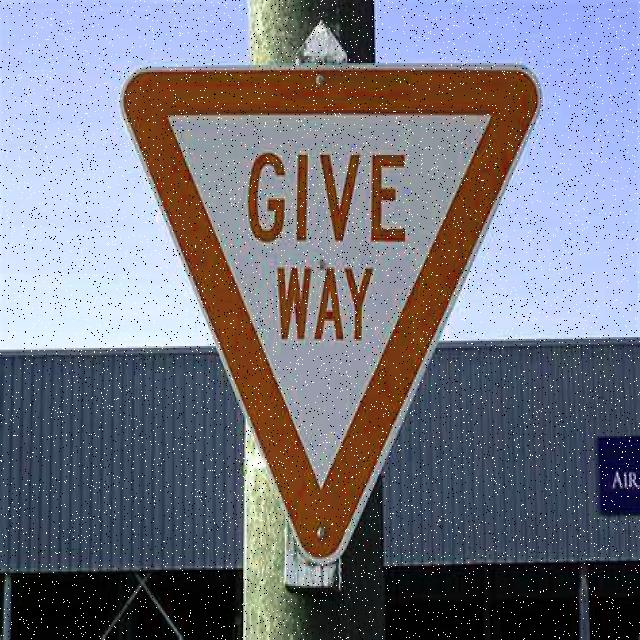giveway: (121, 49, 544, 568)
